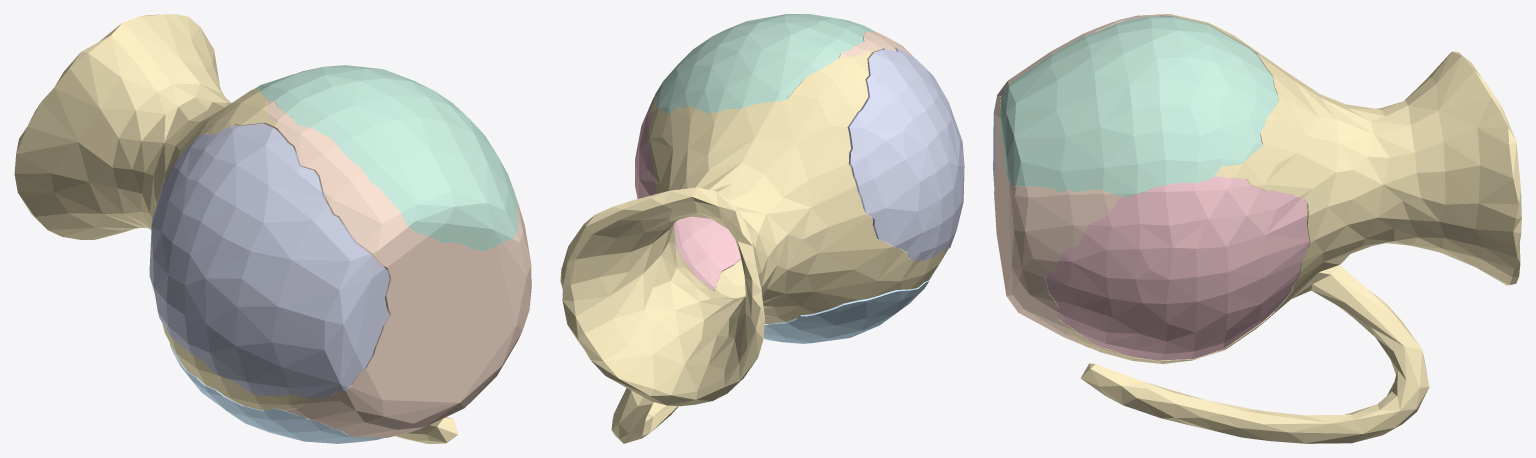
File: view_assembly_-1_colored.glb
3 renders of one model, left to right at view 1: azimuth 30°, elevation 25°; view 2: azimuth 150°, elevation 25°; view 3: azimuth 270°, elevation 25°, orthographic. The views are drawn at different scales.
Visible parts, largest first — view 1: world; view 2: world; view 3: world.
Boxes of the visible parts, box(x1,y1,x2,y2) form: world: box(14, 14, 531, 443); world: box(560, 14, 964, 443); world: box(993, 14, 1521, 443).
Bounding box in the file's own units: 0.6571 × 0.7791 × 0.993.
